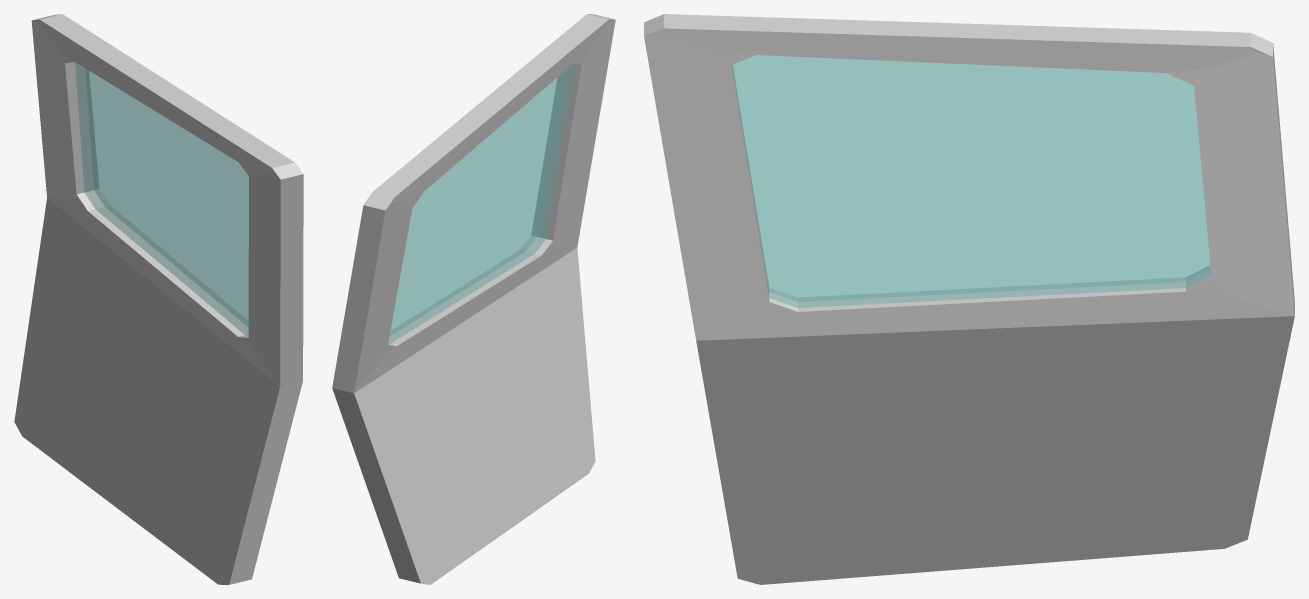
File: leftdoor.fbx
3 renders of one model, left to right at view 1: azimuth 30°, elevation 25°; view 2: azimuth 150°, elevation 25°; view 3: azimuth 270°, elevation 25°, orthographic. The views are drawn at different scales.
Visible parts, largest first — view 1: door_left; view 2: door_left; view 3: door_left.
Boxes of the visible parts, x1,y1,x2,y2 form: door_left: (14,14,303,584); door_left: (332,14,615,584); door_left: (644,14,1294,584).
Size of the model in its own units: 13.15 by 73.09 by 76.04.
